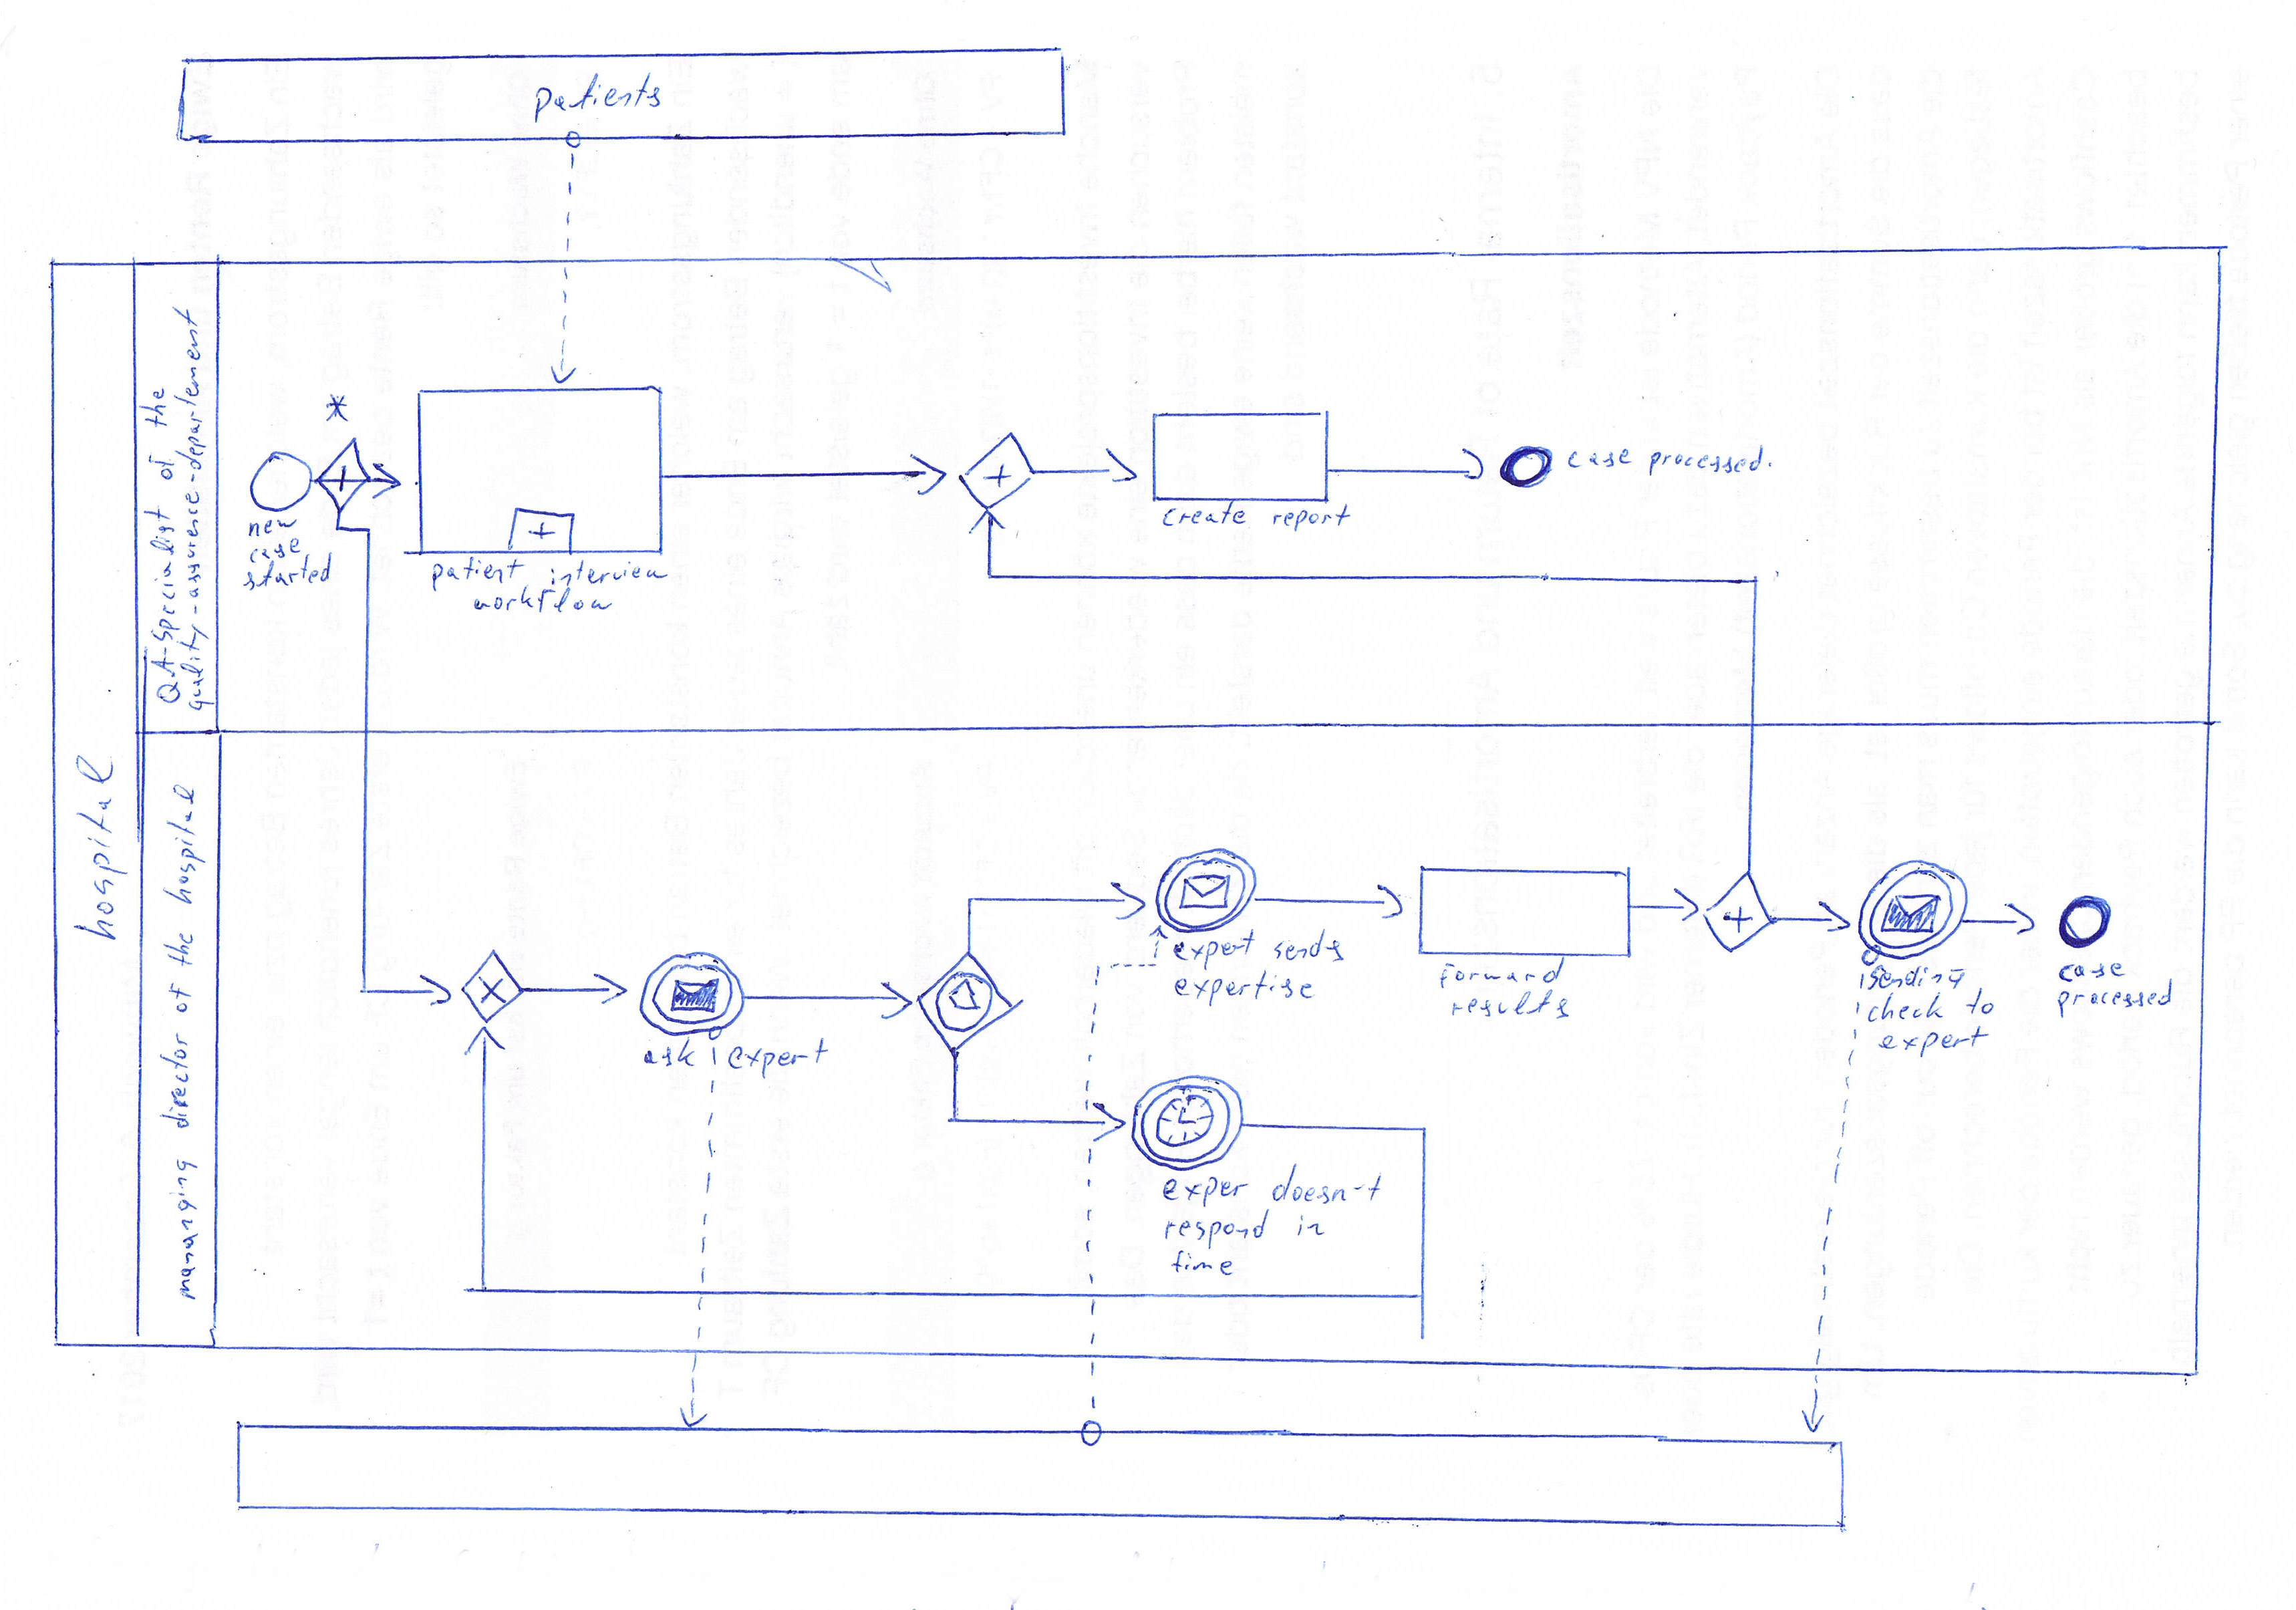Forward: (1434, 950, 1571, 996)
QA-Specialist: (138, 499, 185, 708)
ask: (638, 1031, 700, 1071)
assurance: (179, 487, 206, 602)
case: (2052, 957, 2131, 988), (1562, 443, 1636, 473), (245, 533, 303, 568)
check: (1863, 986, 1950, 1029)
create: (1155, 494, 1252, 531)
departement: (168, 301, 211, 475)
director: (152, 1027, 194, 1135)
doesn't: (1267, 1157, 1389, 1209)
exper: (1156, 1170, 1254, 1213)
expert: (722, 1033, 833, 1084), (1872, 1021, 1993, 1063), (1168, 924, 1262, 975)
expertise: (1169, 964, 1323, 1013)
hospital: (65, 747, 134, 946), (156, 777, 212, 910)
in: (1291, 1210, 1330, 1241)
interview: (544, 553, 674, 591)
mananging: (163, 1153, 204, 1304)
new: (243, 514, 301, 541)
of: (162, 978, 197, 1018), (142, 449, 180, 485)
patient: (425, 552, 529, 597)
patients: (528, 68, 666, 129)
processed: (2051, 972, 2178, 1024), (1644, 439, 1768, 482)
quality: (171, 620, 221, 715)
report: (1267, 499, 1354, 536)
respond: (1159, 1204, 1274, 1254)
results: (1445, 983, 1576, 1025)
sending: (1861, 958, 1970, 996)
sends: (1269, 923, 1348, 967)
started: (238, 545, 339, 596)
the: (135, 382, 173, 432), (158, 928, 200, 971)
time: (1166, 1246, 1239, 1281)
to: (1961, 982, 1999, 1020)
workflow: (468, 579, 619, 618)
